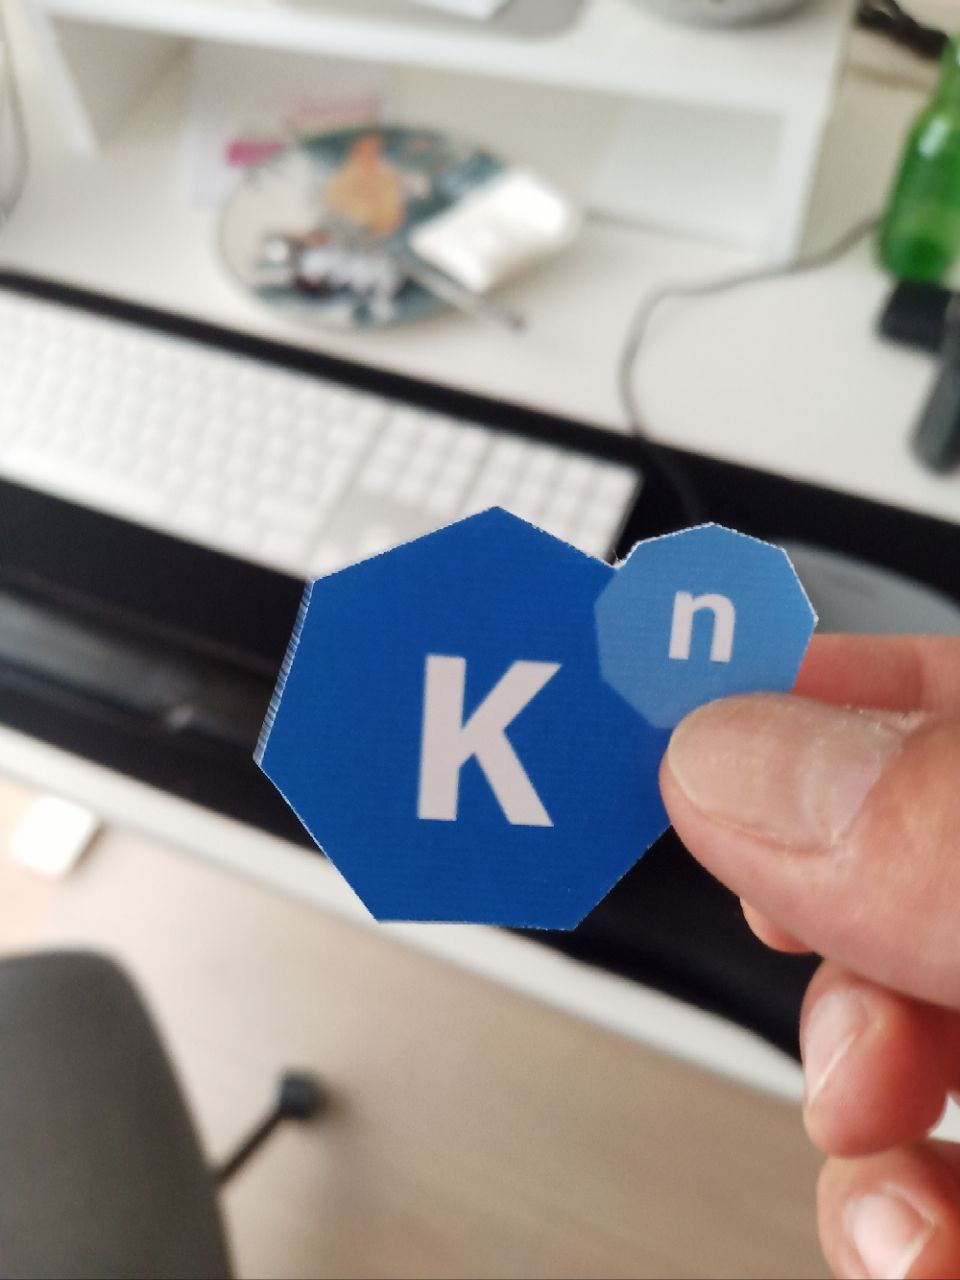knative: (251, 501, 820, 932)
